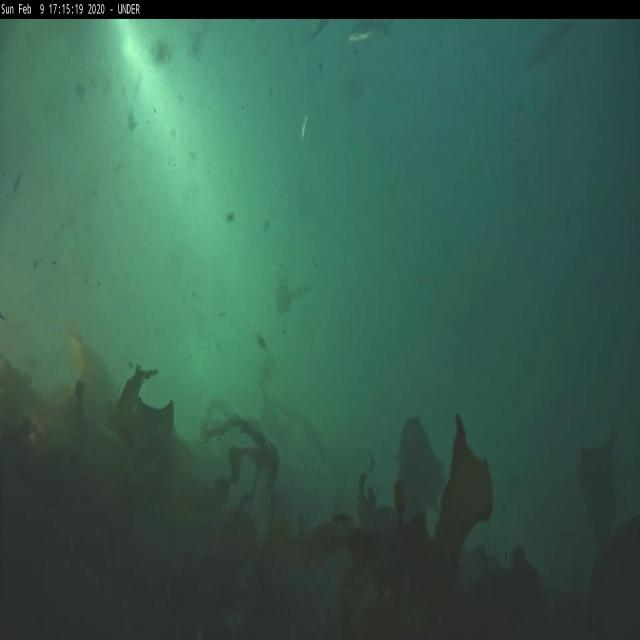fish: (525, 18, 572, 72), (347, 17, 389, 48), (298, 114, 308, 144)
